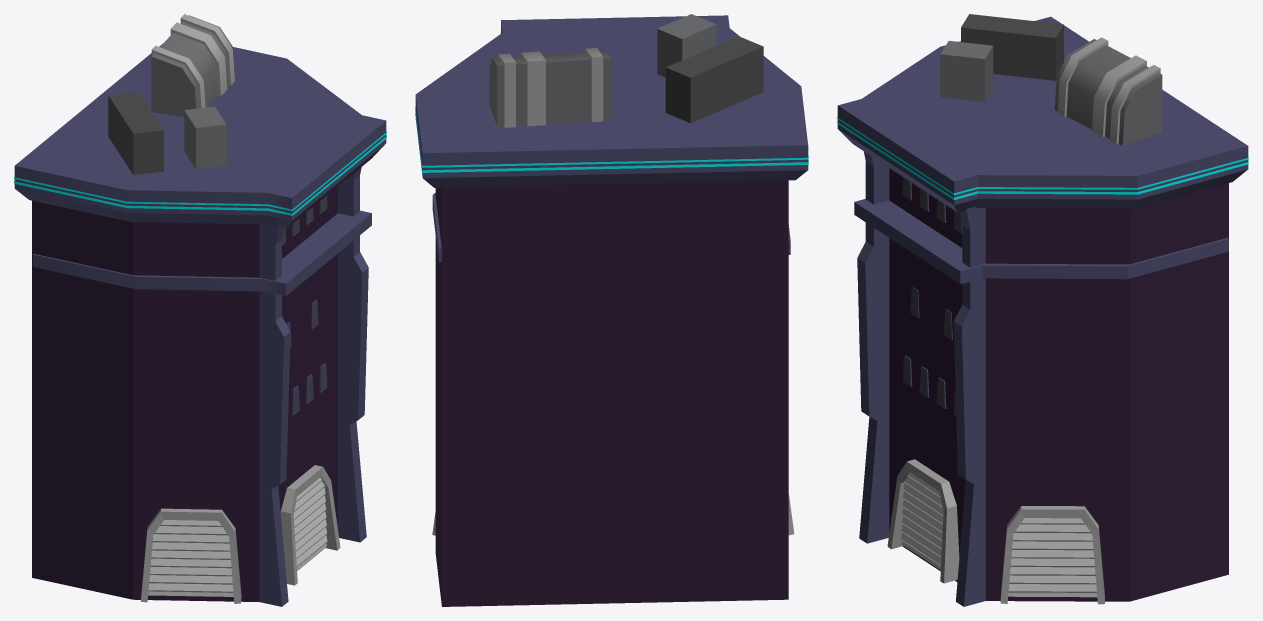
The model's file is NorthEast_House_04.fbx.
3 renders of one model, left to right at view 1: azimuth 30°, elevation 25°; view 2: azimuth 150°, elevation 25°; view 3: azimuth 270°, elevation 25°, orthographic. The views are drawn at different scales.
Parts seen in each view (by area): view 1: NorthEast_House_04; view 2: NorthEast_House_04; view 3: NorthEast_House_04.
Part boxes in pixels (<box>): NorthEast_House_04: <box>14,14,386,606</box>; NorthEast_House_04: <box>415,14,808,606</box>; NorthEast_House_04: <box>837,14,1248,606</box>.
Size of the model in its own units: 33.66 by 46.87 by 35.38.
